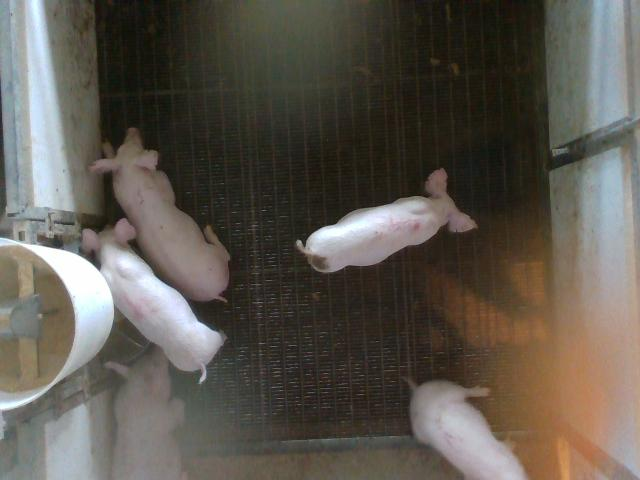pig-4: (84, 220, 225, 381)
pig-5: (296, 168, 476, 272)
